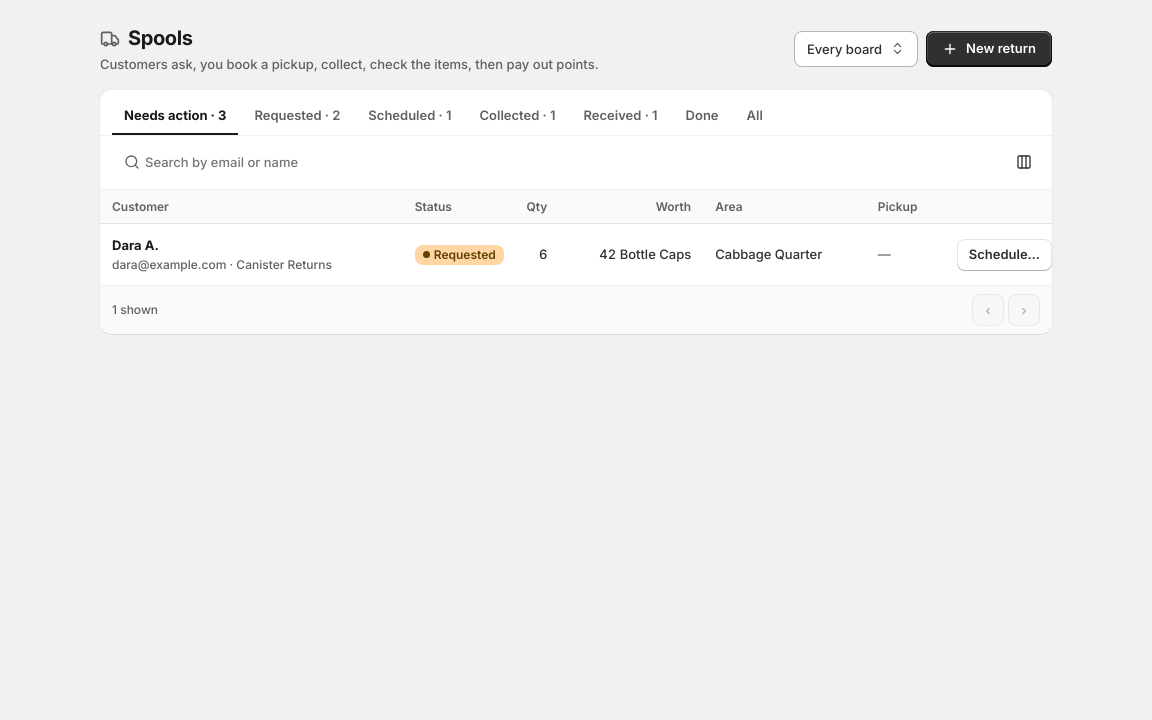
Test: the returns queue › renders exactly one row action, and it is allowedActions[0]
Expected: the text "Dara A." is shown, [112,237,159,253]
Step 1. Click the button "Schedule…" → point(1004, 254), box [957,238,1052,270]
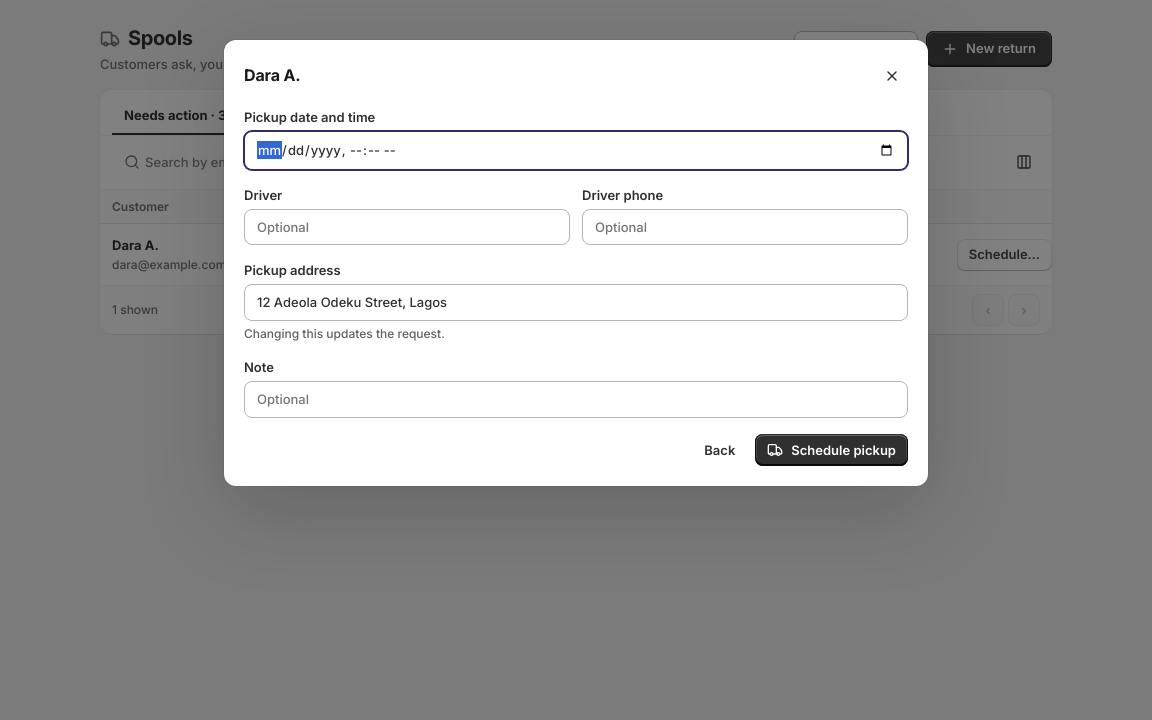
Expected: the field labelled "Pickup date and time" is shown, [244,131,908,170]
